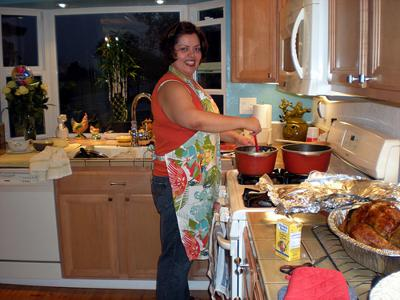person: (150, 22, 262, 300)
